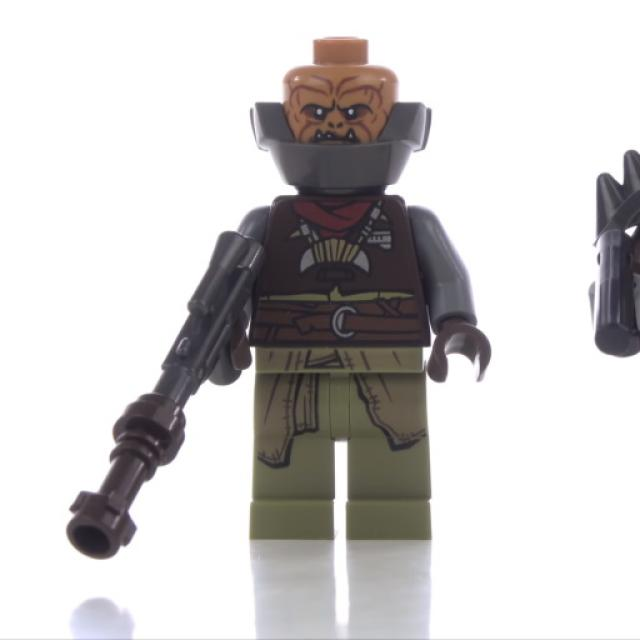Lego-Minifigures: (128, 21, 528, 551)
